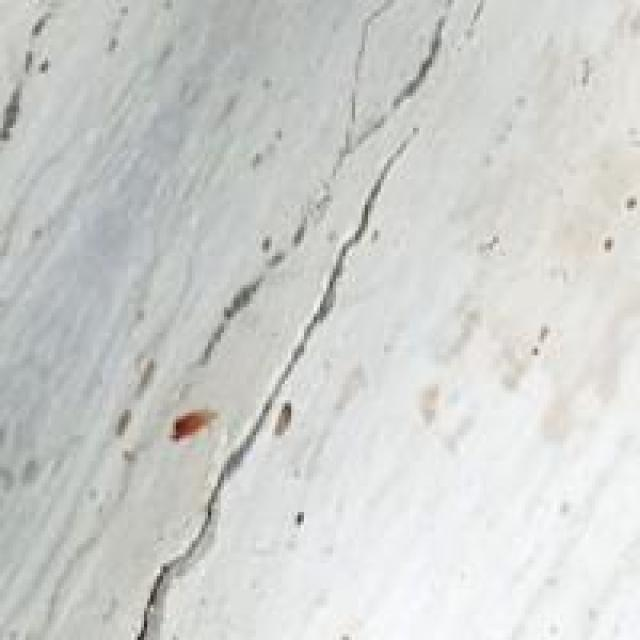crack: (100, 38, 438, 637)
